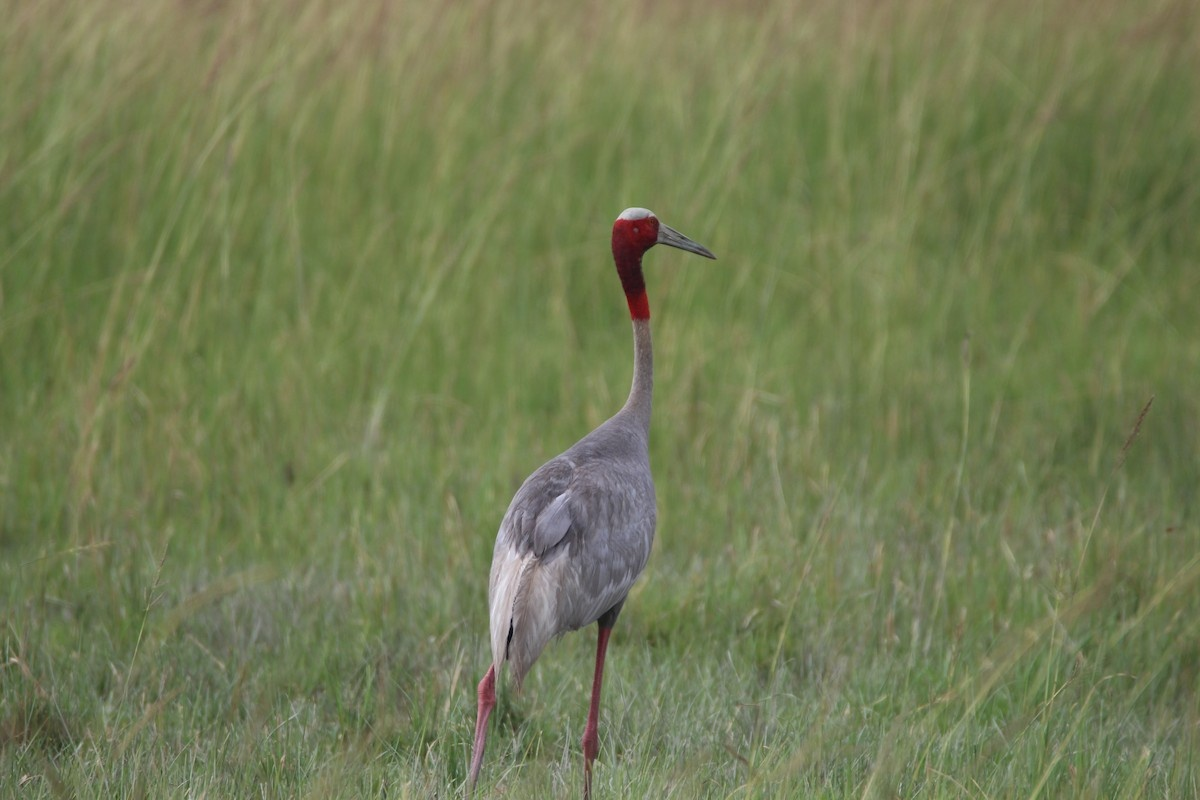crane: (431, 196, 724, 800)
